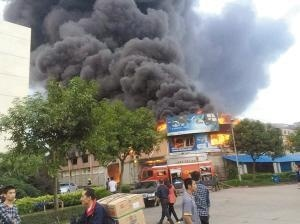fire: (209, 112, 236, 146), (156, 119, 168, 131)
